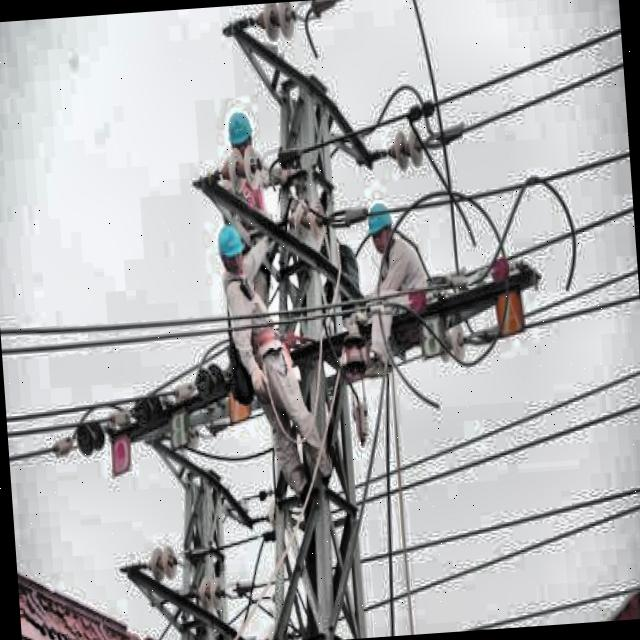helmet: (360, 198, 402, 255), (214, 222, 247, 278), (226, 108, 255, 165)
